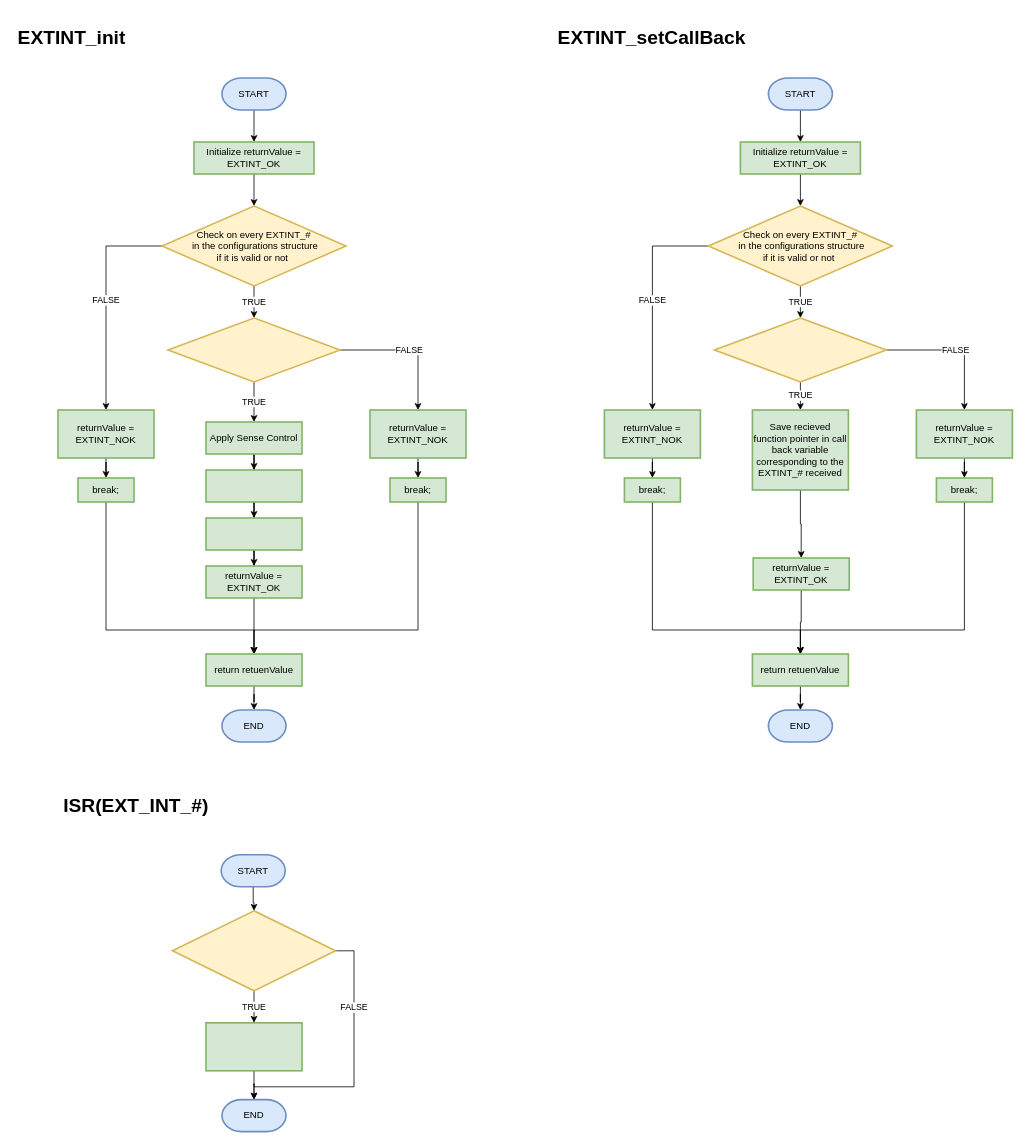
Image size: 1026x1146. Some labels were removed from this diagram. Here are the shapes that lost their labels. From the top down, the box of each, then its label:
(167, 317, 340, 382): Check on the crossponding sense control choosen
(713, 317, 887, 382): Check if function pointer is not pointing to null
(205, 469, 302, 502): Enable pripheral Interrupt
(205, 517, 302, 550): Enable global Interrupt
(171, 910, 336, 991): Checks if the callBack function is not pointing to null
(205, 1022, 302, 1071): Call callback() function to execute
